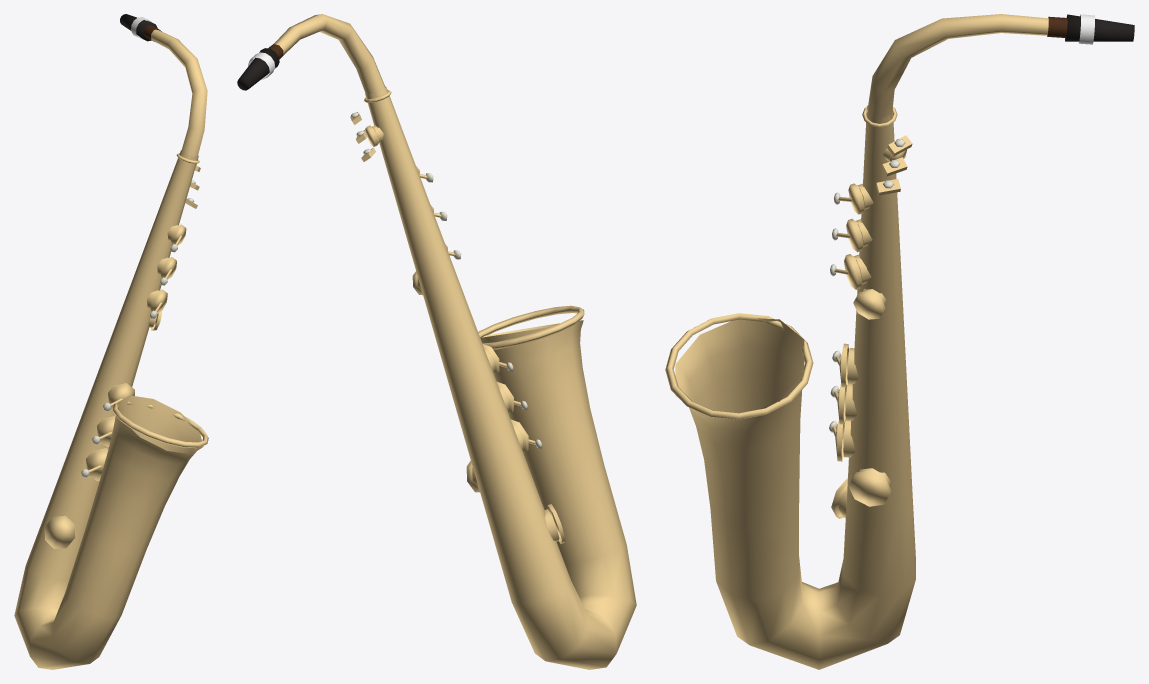
The model's file is instr_sax.lite.glb.
The picture shows the model from 3 angles, left to right: view 1: azimuth 30°, elevation 25°; view 2: azimuth 150°, elevation 25°; view 3: azimuth 270°, elevation 25°; orthographic projection. The views are drawn at different scales.
Parts seen in each view (by area): view 1: sax_saxbrass, sax_ebony, sax_ivory; view 2: sax_saxbrass, sax_ebony; view 3: sax_saxbrass, sax_ebony.
Boxes of the visible parts, x1=… form: sax_saxbrass: x1=14, y1=29, x2=208, y2=669; sax_ebony: x1=120, y1=14, x2=157, y2=41; sax_ivory: x1=81, y1=164, x2=196, y2=477; sax_saxbrass: x1=274, y1=14, x2=636, y2=669; sax_ebony: x1=237, y1=48, x2=279, y2=90; sax_saxbrass: x1=665, y1=14, x2=1048, y2=669; sax_ebony: x1=1065, y1=14, x2=1134, y2=41.
Bounding box in the file's own units: 0.3823 × 0.9229 × 0.5029.
